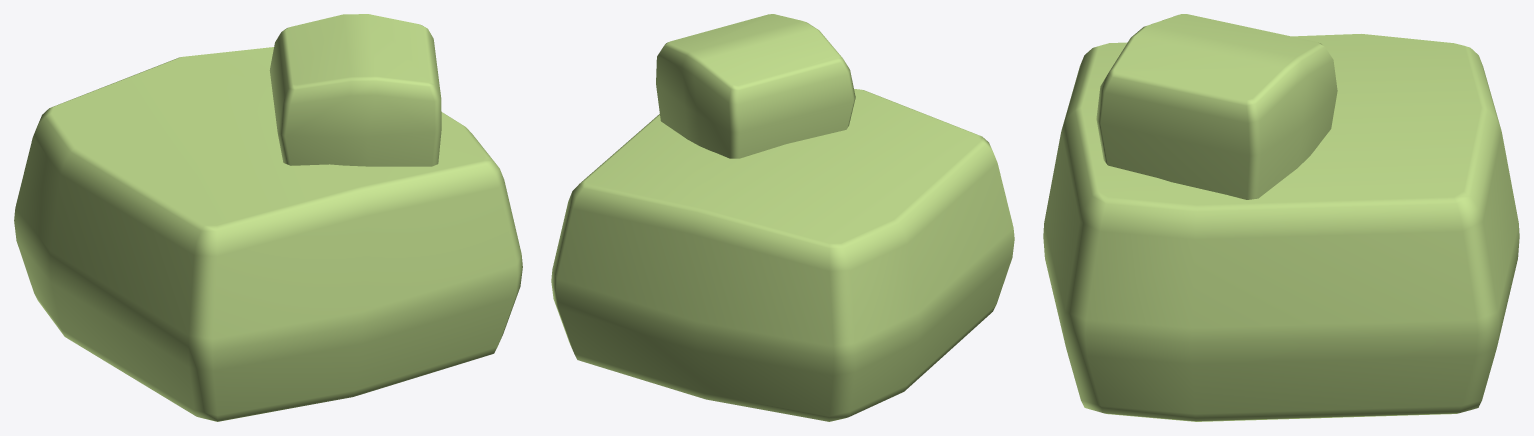
File: tree bush.fbx
The picture shows the model from 3 angles, left to right: view 1: azimuth 30°, elevation 25°; view 2: azimuth 150°, elevation 25°; view 3: azimuth 270°, elevation 25°; orthographic projection. The views are drawn at different scales.
Visible parts, largest first — view 1: pCube1, pCube2; view 2: pCube1, pCube2; view 3: pCube1, pCube2.
Boxes of the visible parts, x1=… form: pCube1: x1=14, y1=47, x2=522, y2=421; pCube2: x1=269, y1=14, x2=441, y2=166; pCube1: x1=551, y1=89, x2=1014, y2=421; pCube2: x1=656, y1=14, x2=855, y2=158; pCube1: x1=1043, y1=34, x2=1519, y2=421; pCube2: x1=1096, y1=14, x2=1337, y2=199.
Size of the model in its own units: 1.3 by 0.9764 by 1.3.
